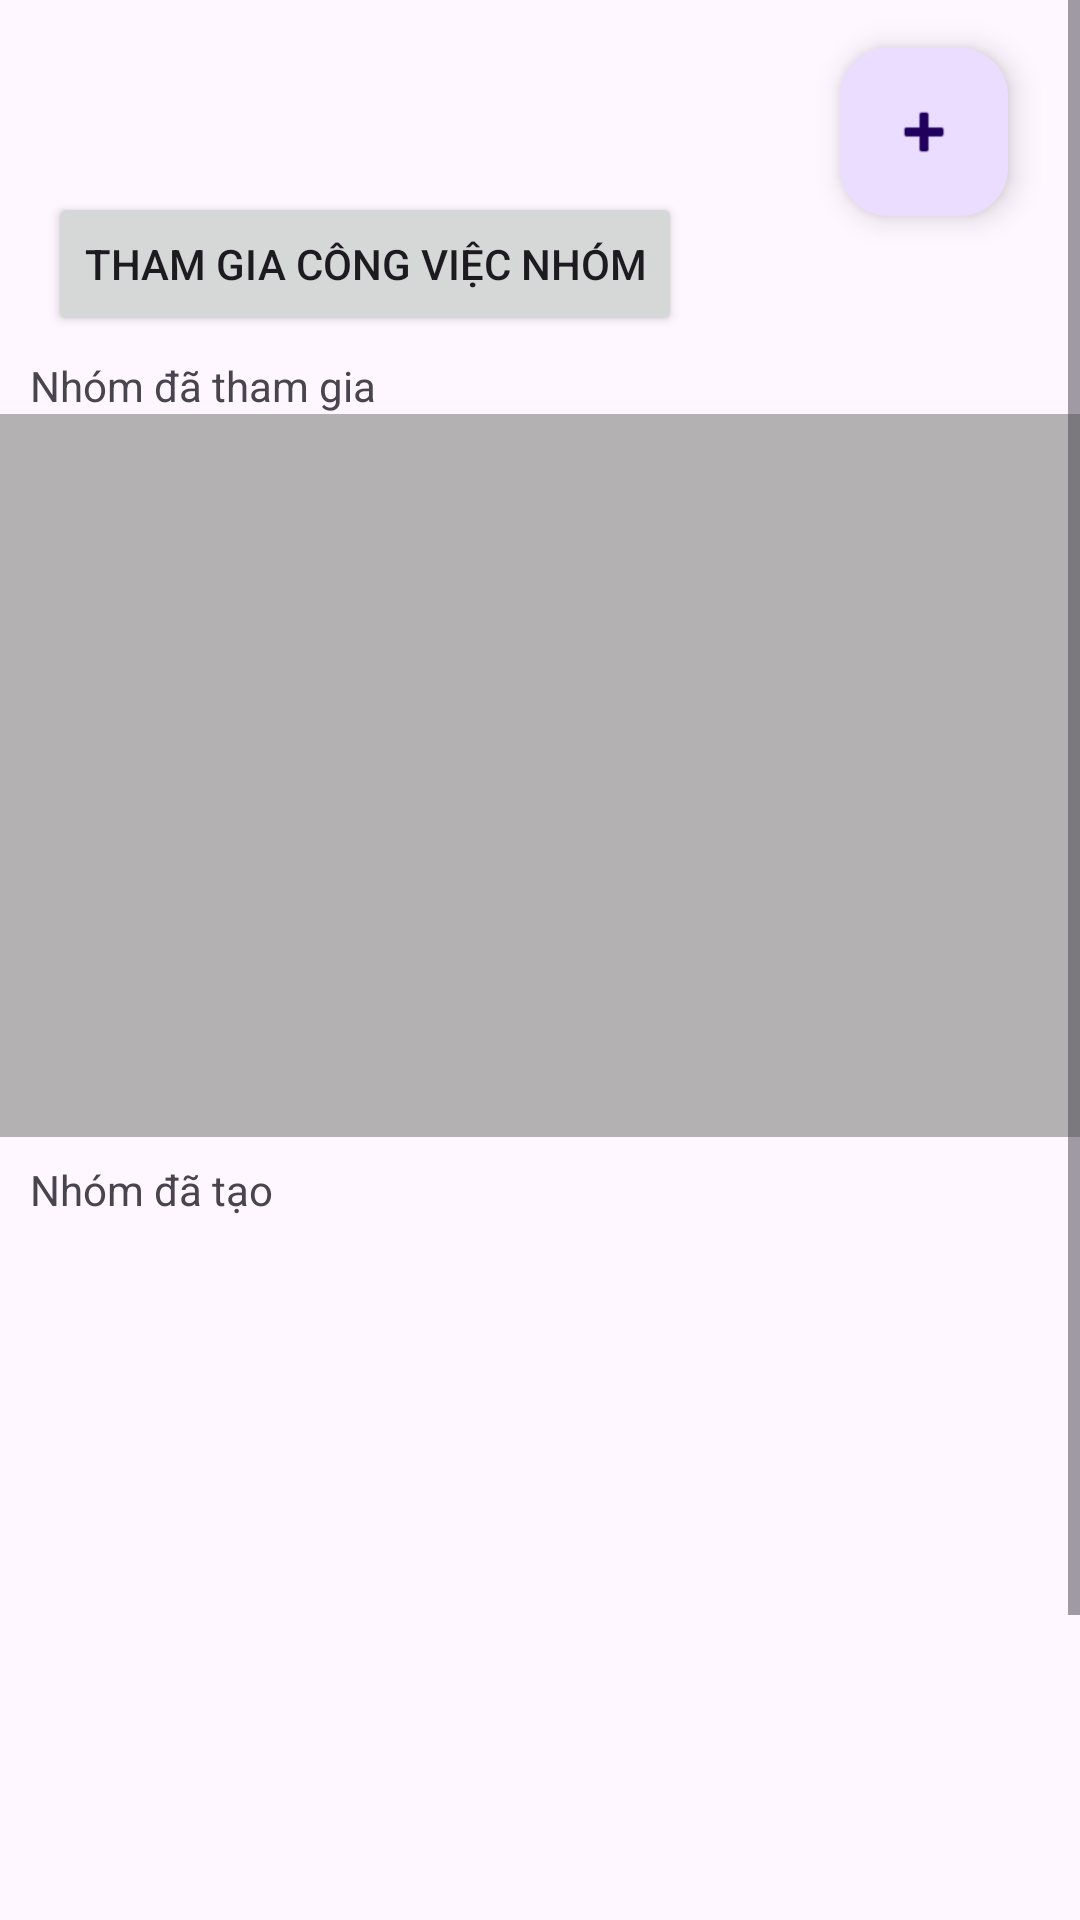

Icon click points for this 1080 × 1920 phone screenshot, format (x,y):
add: (924,132)
